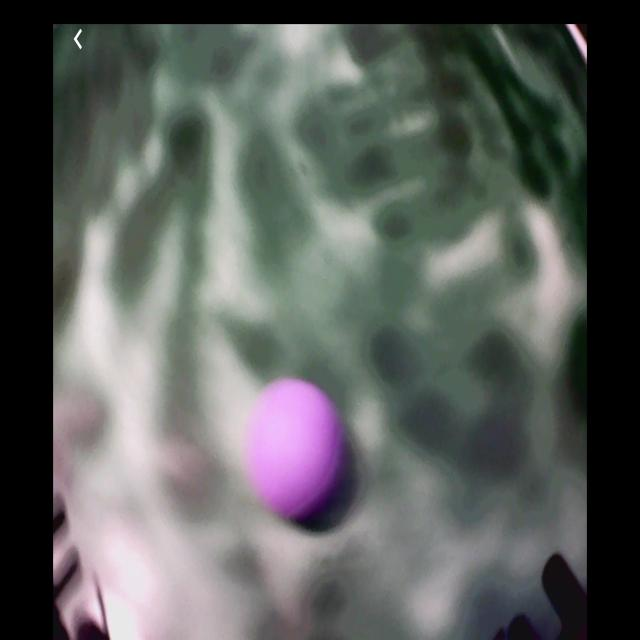ball: (249, 380, 340, 514)
